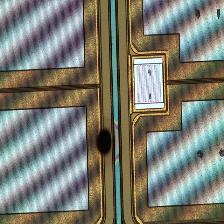PARTICLE: (95, 127, 115, 159)
